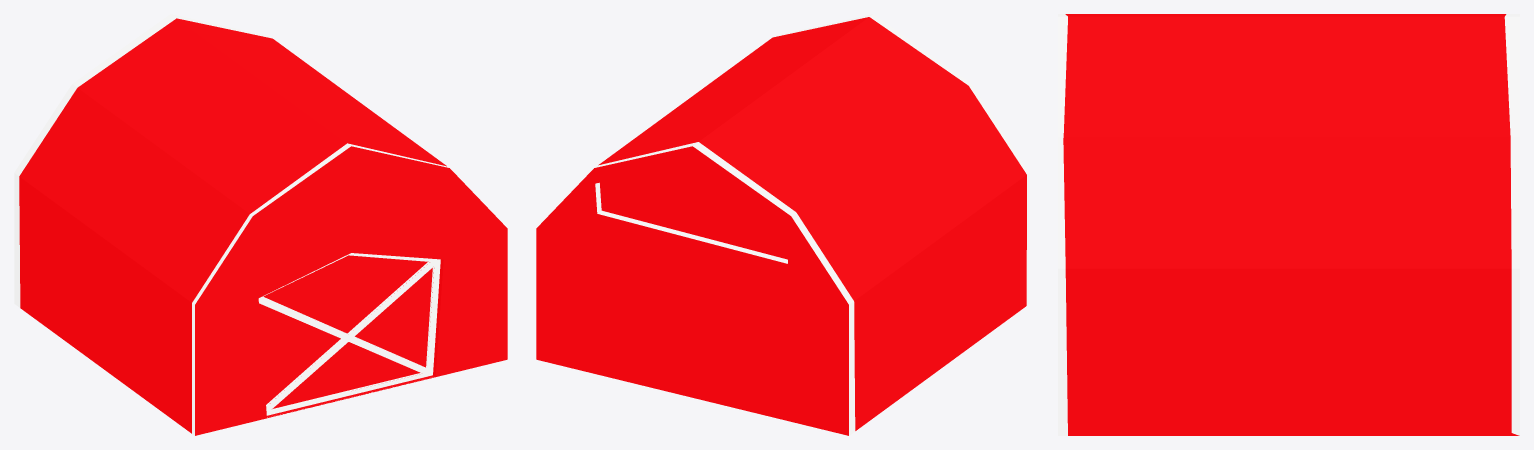
Rendered from Barn.glb.
3 renders of one model, left to right at view 1: azimuth 30°, elevation 25°; view 2: azimuth 150°, elevation 25°; view 3: azimuth 270°, elevation 25°, orthographic. The views are drawn at different scales.
Visible parts, largest first — view 1: Barn; view 2: Barn; view 3: Barn.
Part boxes in pixels (left/top/right/bottom): Barn: left=14, top=14, right=507, bottom=435; Barn: left=536, top=14, right=1029, bottom=435; Barn: left=1058, top=14, right=1519, bottom=435.
Bounding box in the file's own units: 10 × 7.68 × 10.
